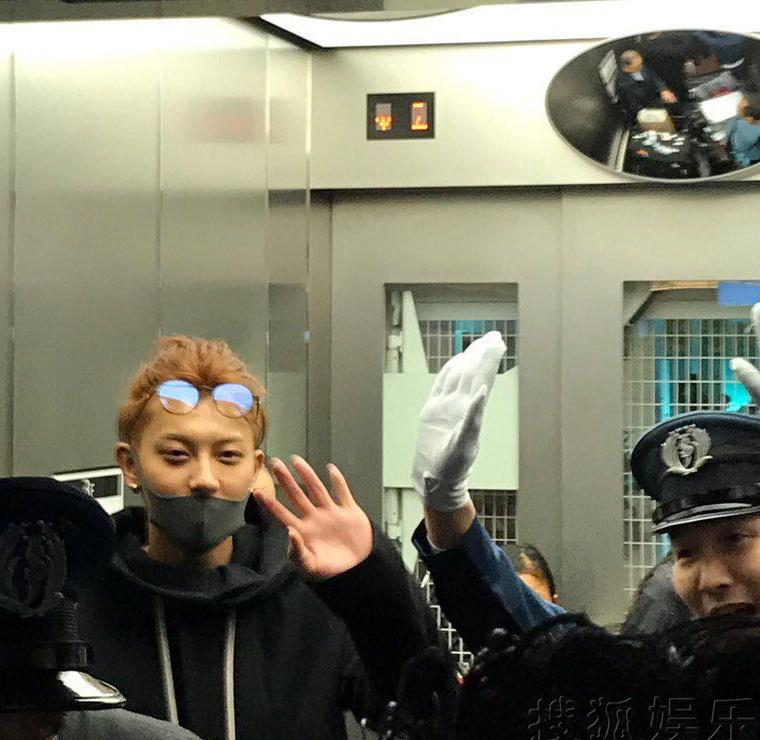face: (663, 488, 759, 651)
face_mask: (135, 385, 256, 546)
